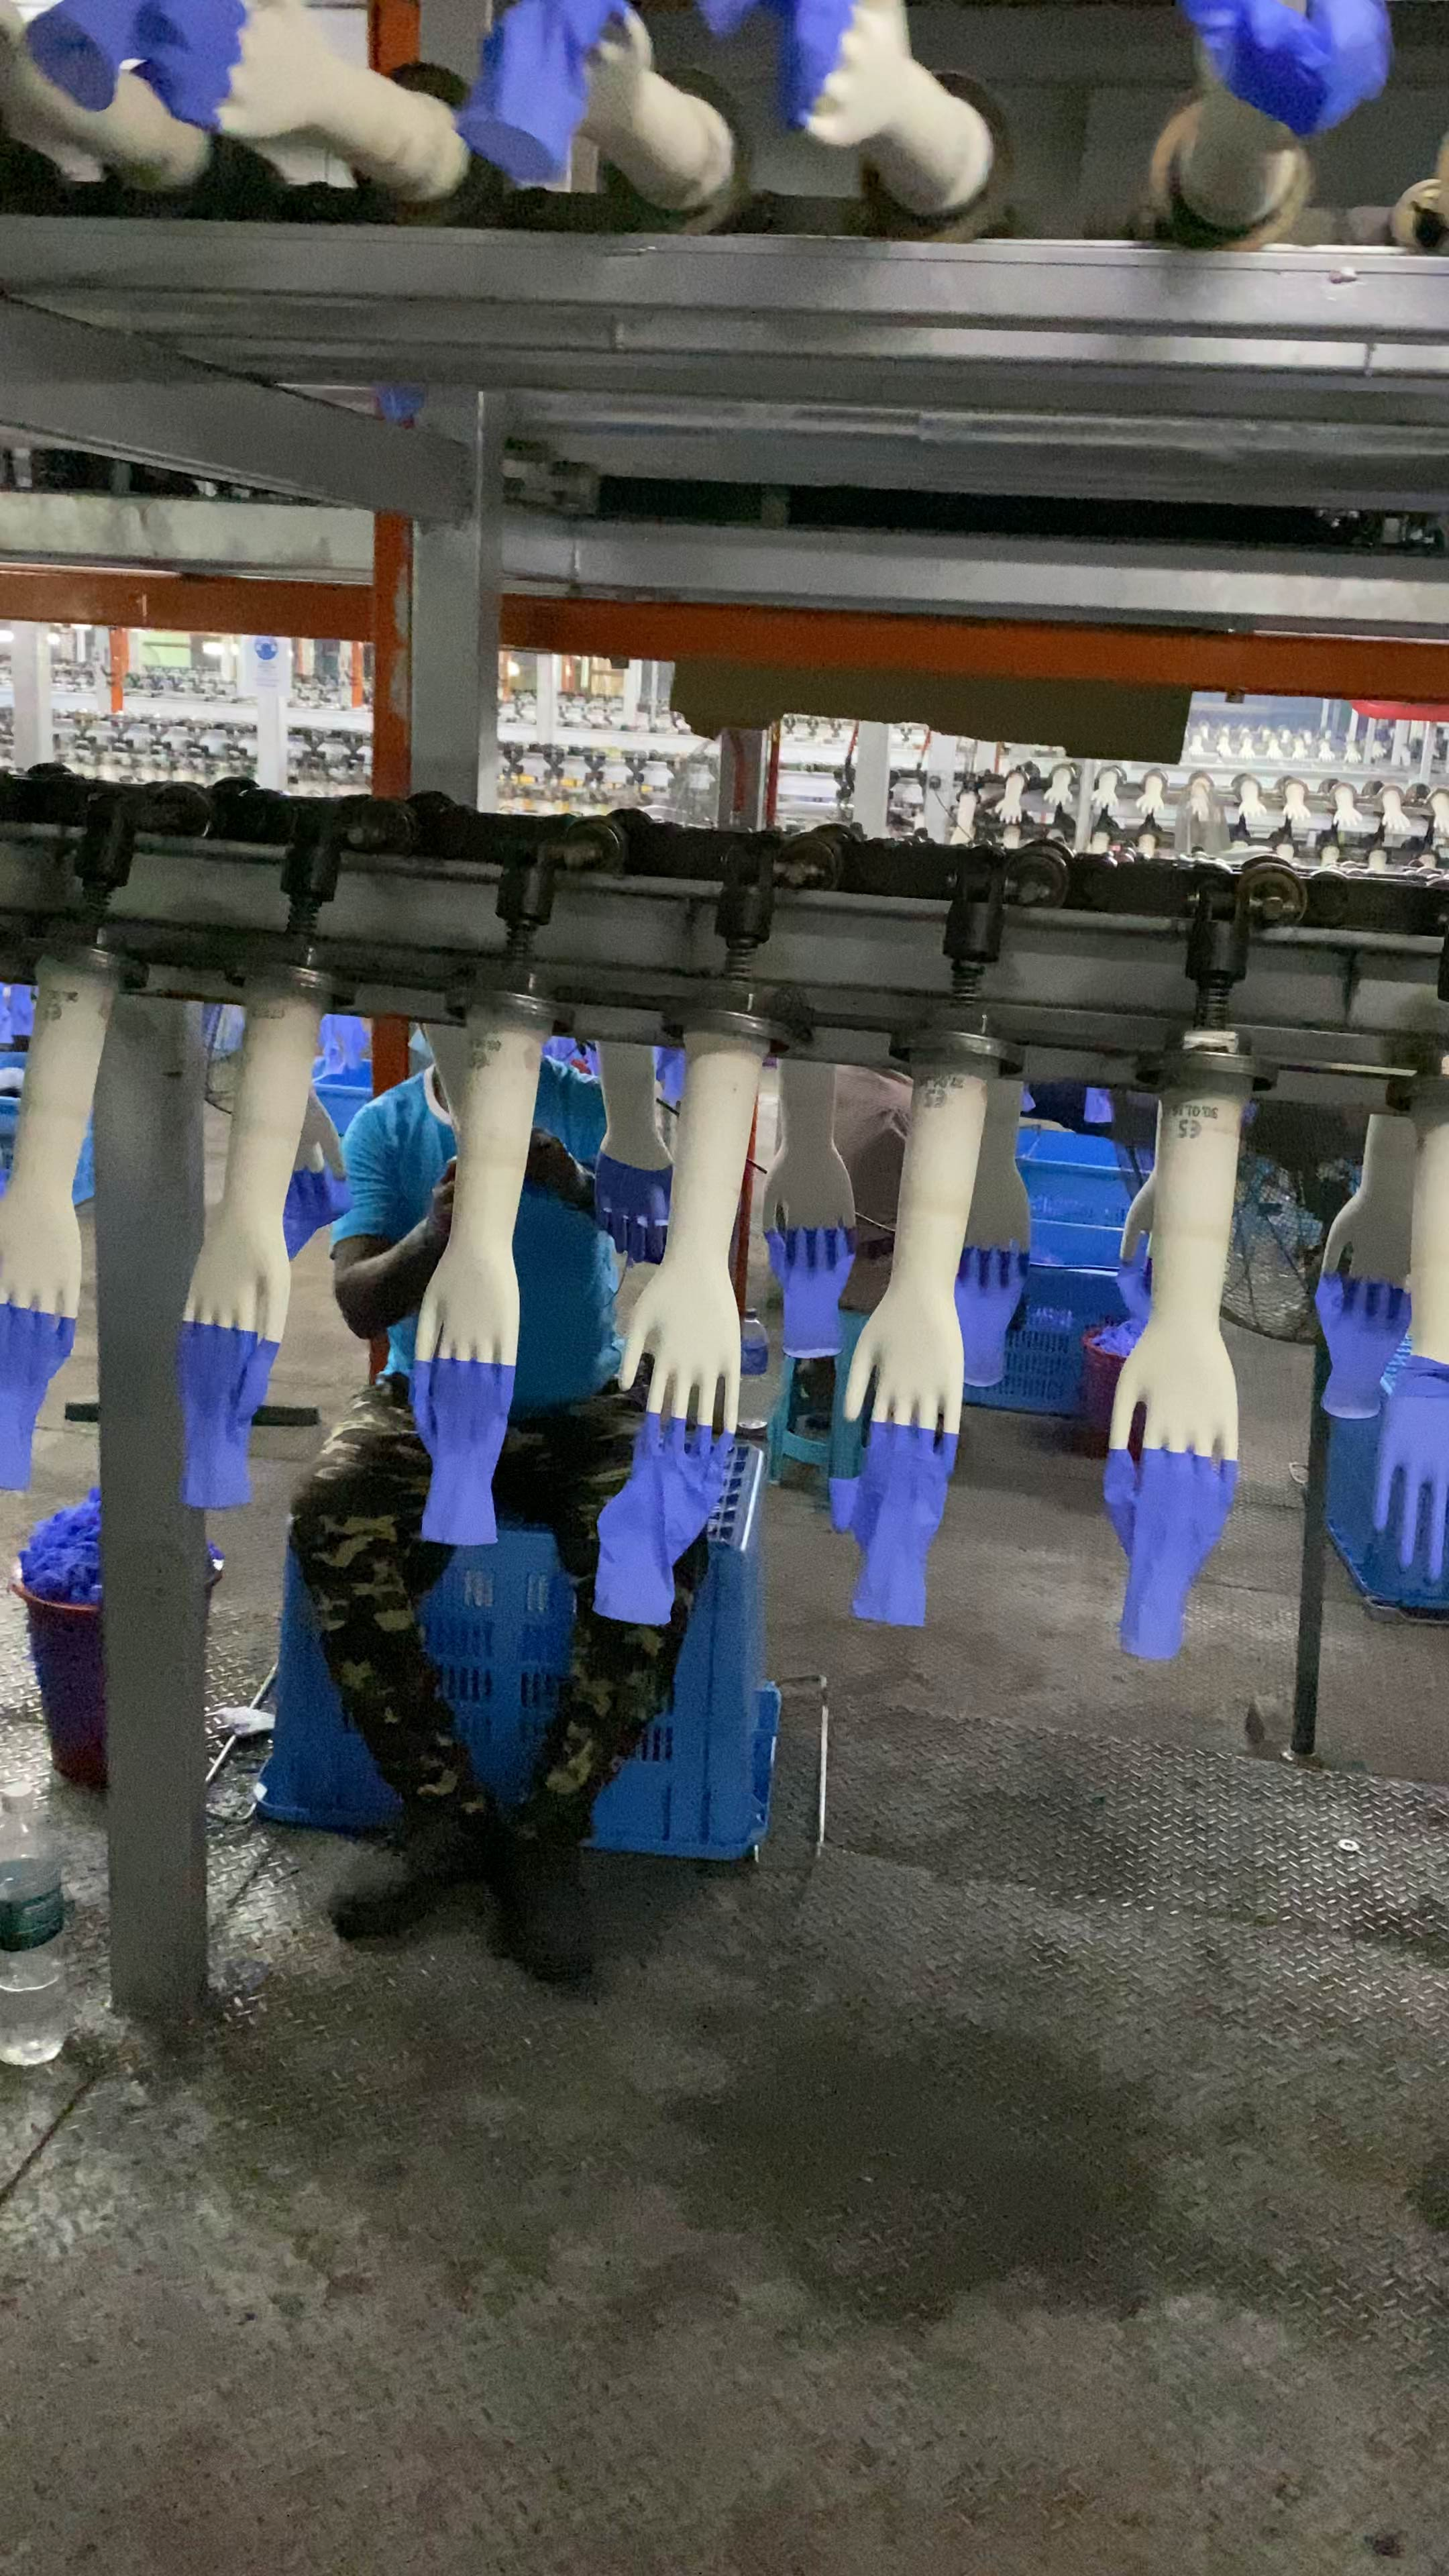glove: (453, 0, 625, 180), (593, 1414, 731, 1624), (25, 0, 246, 131), (1100, 1449, 1235, 1658), (1184, 0, 1391, 133), (830, 1422, 959, 1626), (407, 1359, 515, 1545), (699, 0, 851, 129), (180, 1318, 278, 1507), (1371, 1357, 1449, 1580), (1315, 1272, 1412, 1415), (0, 1304, 74, 1490), (766, 1228, 851, 1355), (954, 1249, 1026, 1387), (593, 1155, 676, 1261), (283, 1169, 354, 1260)
